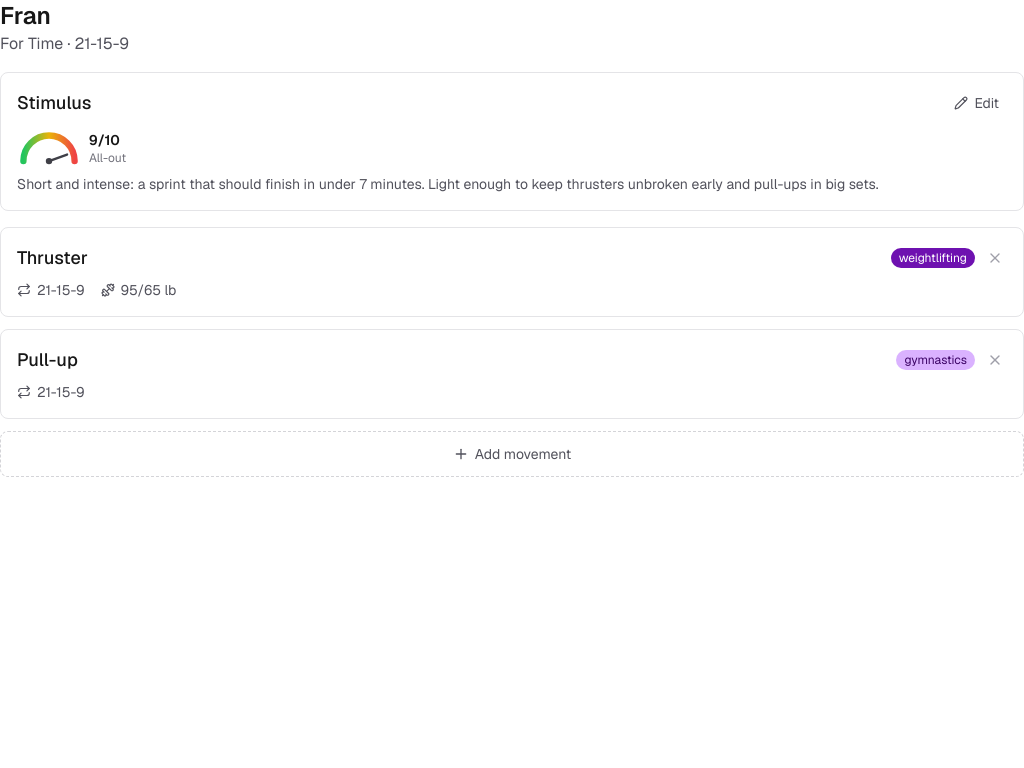
WorkoutPart › merges a movement that's added again
The image size is (1024, 768).
Click the button "Add movement" at (512, 454), box top-left (0, 431), bottom-right (1023, 477)
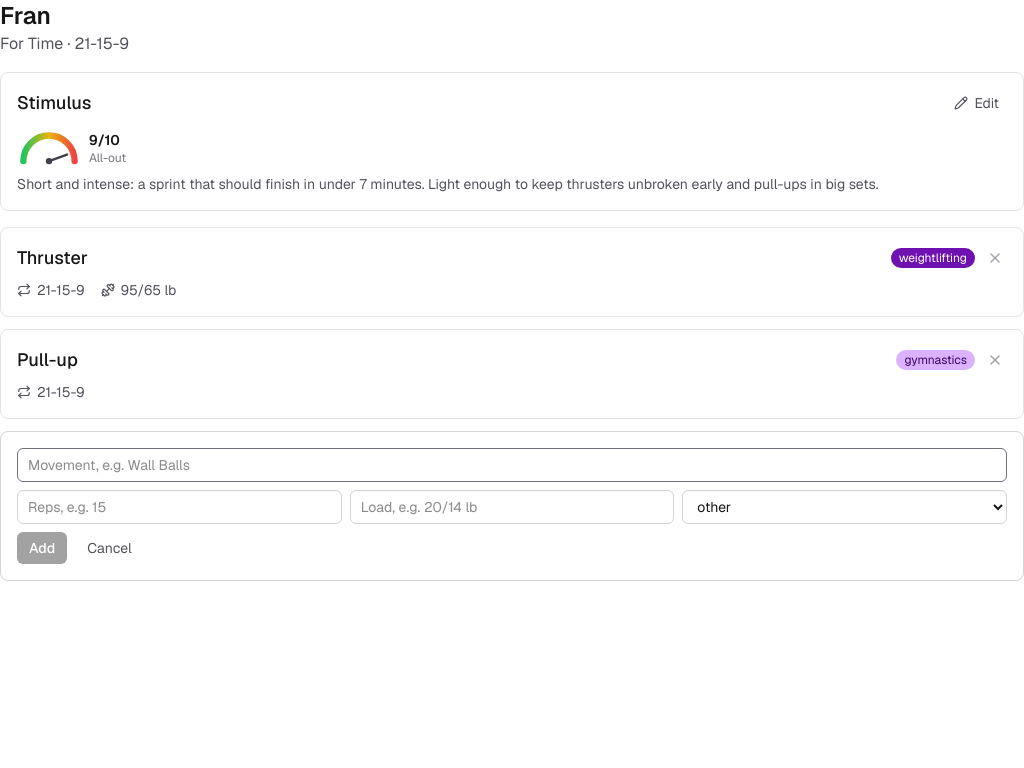
Type "Pull-ups" into the field with placeholder "Movement, e.g. Wall Balls" at (512, 465), box top-left (17, 448), bottom-right (1007, 482)
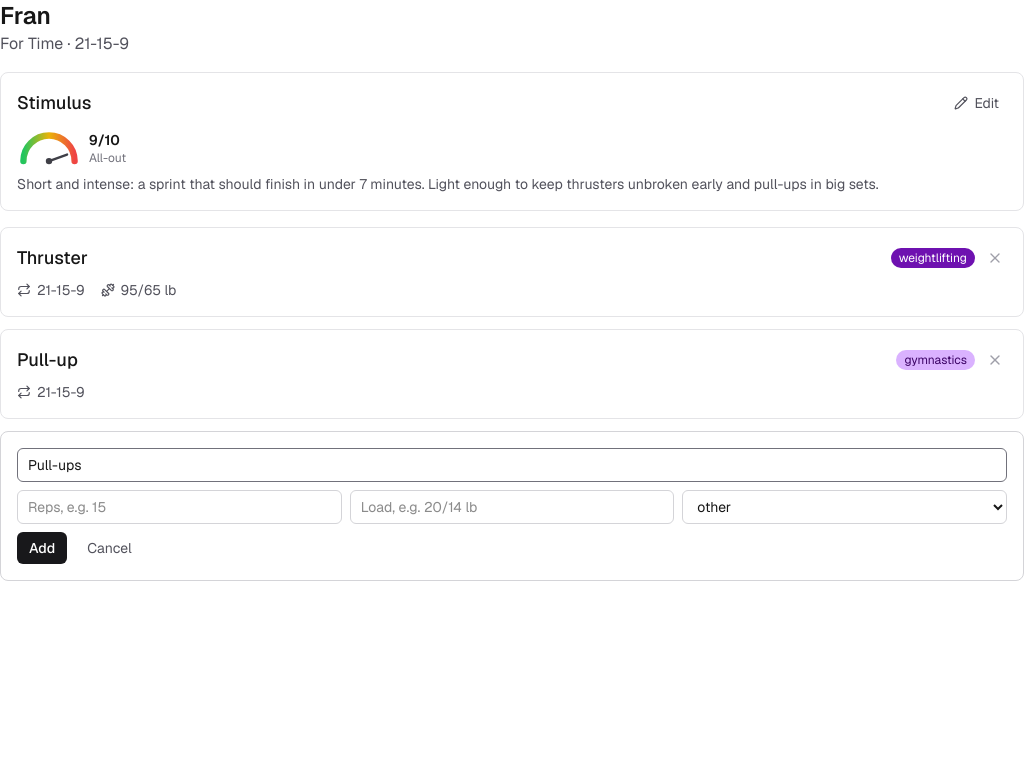
Type "10" into the field with placeholder "Reps, e.g. 15" at (179, 507), box top-left (17, 490), bottom-right (342, 524)
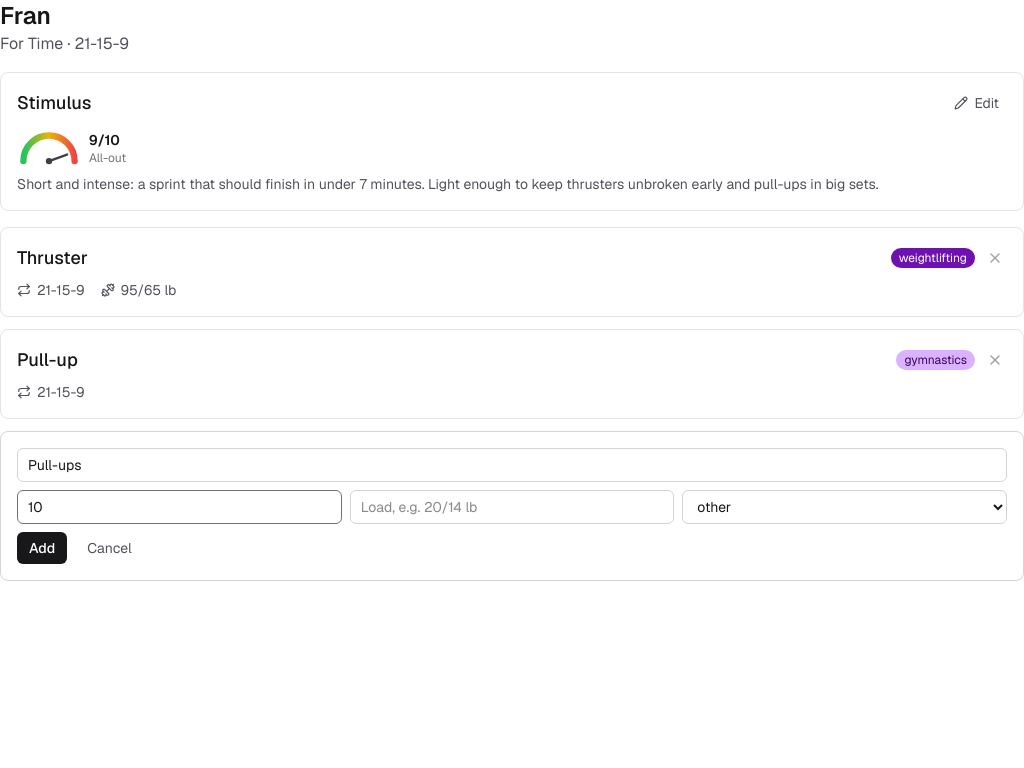
Click the button "Add" at (42, 548), box top-left (17, 532), bottom-right (67, 564)
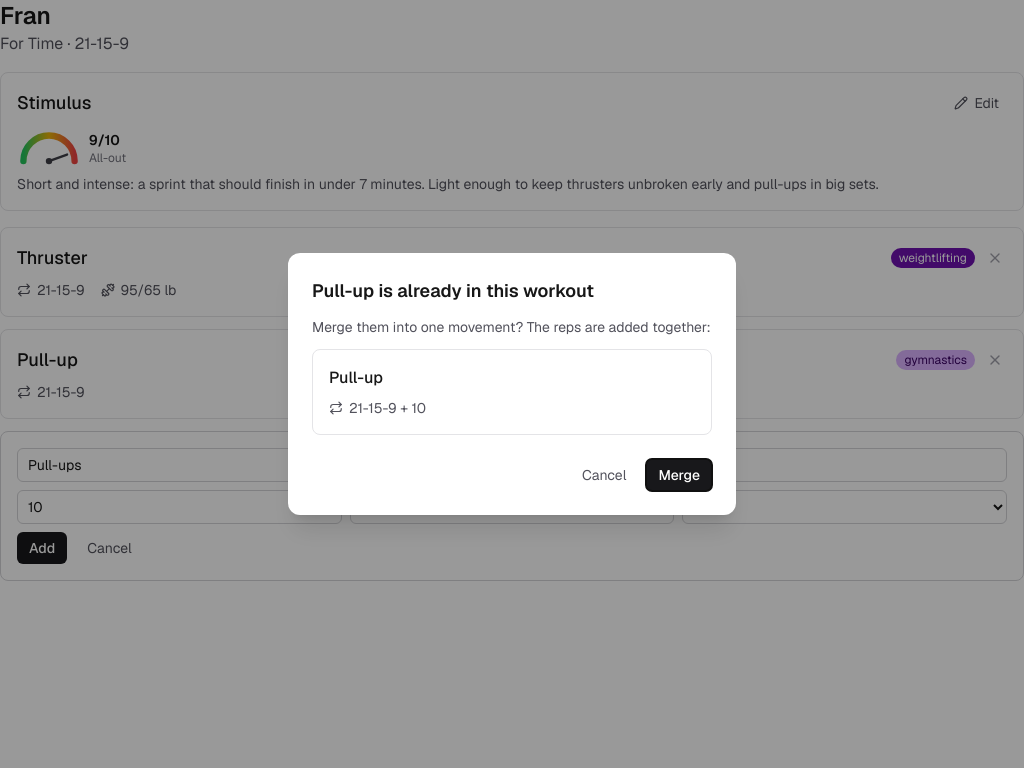
Click the button "Merge" at (679, 475), box top-left (646, 459), bottom-right (712, 491)
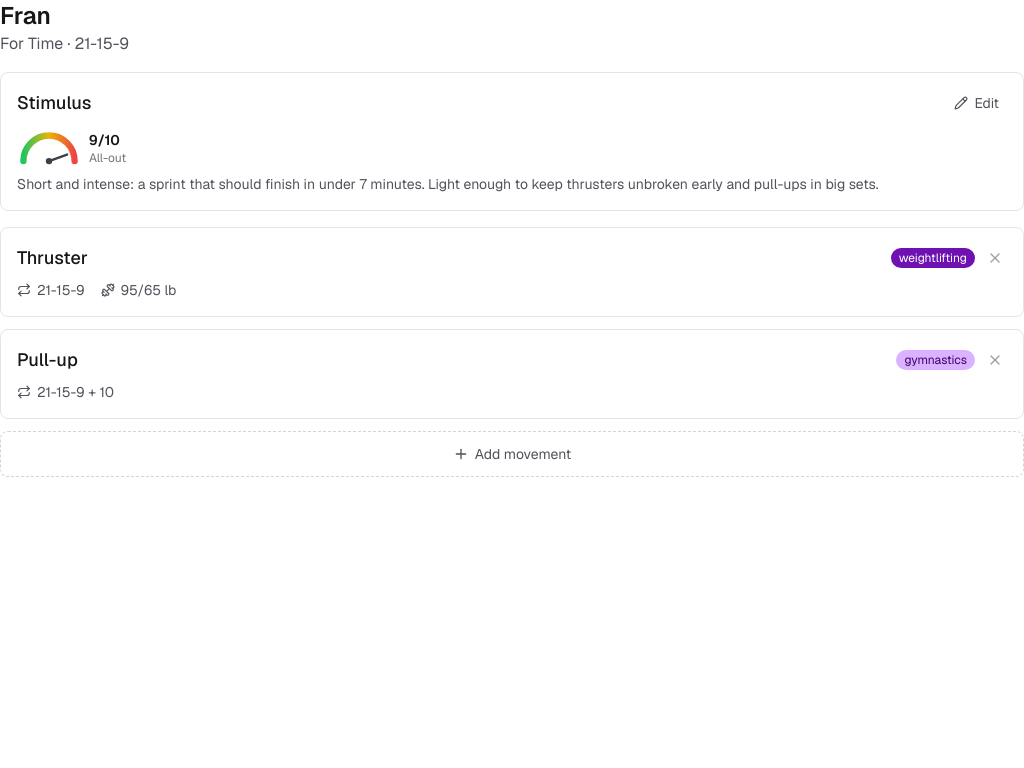
Expected: the number of list items is 2, top-left (0, 227), bottom-right (1023, 317); top-left (0, 329), bottom-right (1023, 419)
Now the element titled "Reps" reads "21-15-9 + 10", box top-left (37, 383), bottom-right (114, 401)
